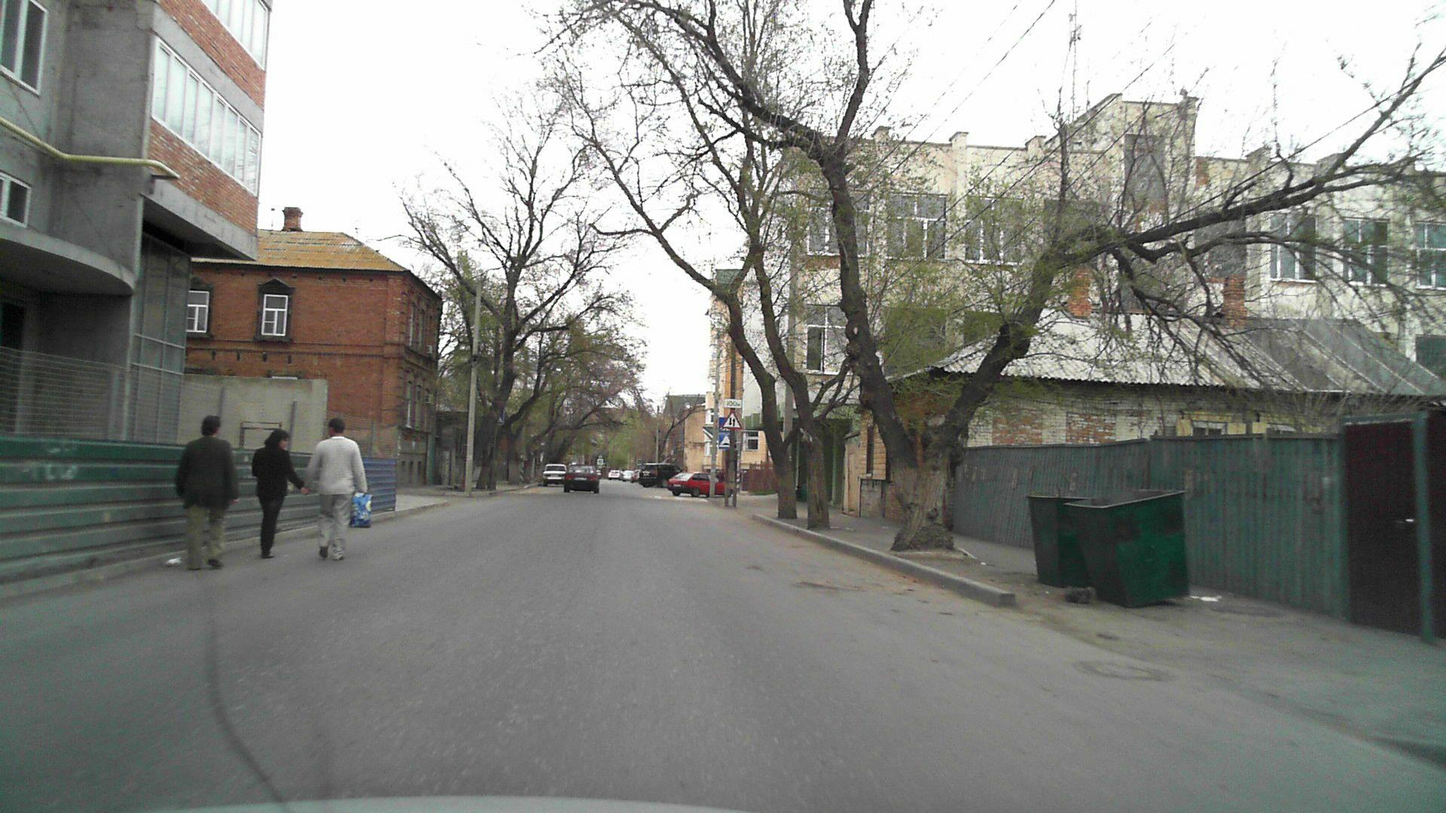obstructed_road_sign: (718, 416, 731, 432), (718, 434, 731, 449)
road_sign: (721, 408, 744, 429)
